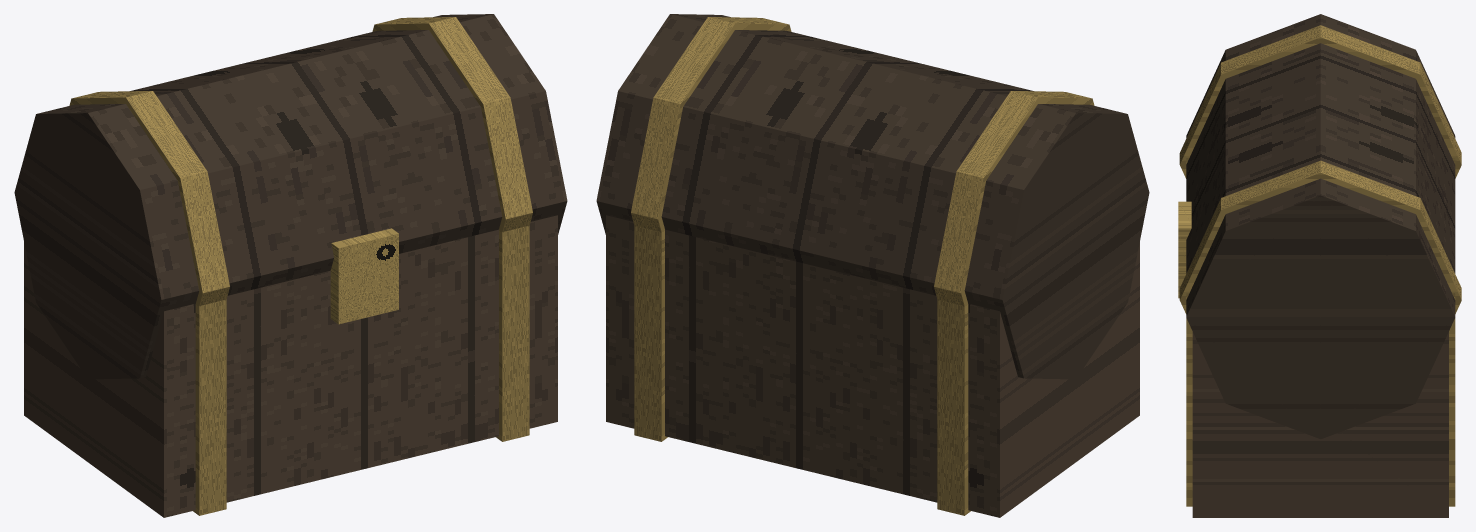
File: chest.glb
The picture shows the model from 3 angles, left to right: view 1: azimuth 30°, elevation 25°; view 2: azimuth 150°, elevation 25°; view 3: azimuth 270°, elevation 25°; orthographic projection. The views are drawn at different scales.
Parts seen in each view (by area): view 1: chest; view 2: chest; view 3: chest.
Boxes of the visible parts, x1=… form: chest: x1=14, y1=14, x2=567, y2=517; chest: x1=596, y1=14, x2=1149, y2=517; chest: x1=1178, y1=14, x2=1461, y2=517.
Size of the model in its own units: 1.34 by 1.15 by 0.885.
Materials: 1 (1 with a texture image).
